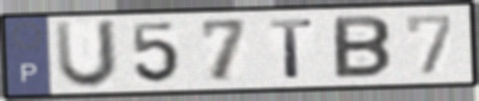5: (131, 20, 183, 86)
7: (402, 12, 456, 78), (199, 16, 250, 85)
B: (331, 14, 394, 81)
T: (267, 17, 317, 81)
U: (51, 18, 120, 92)
